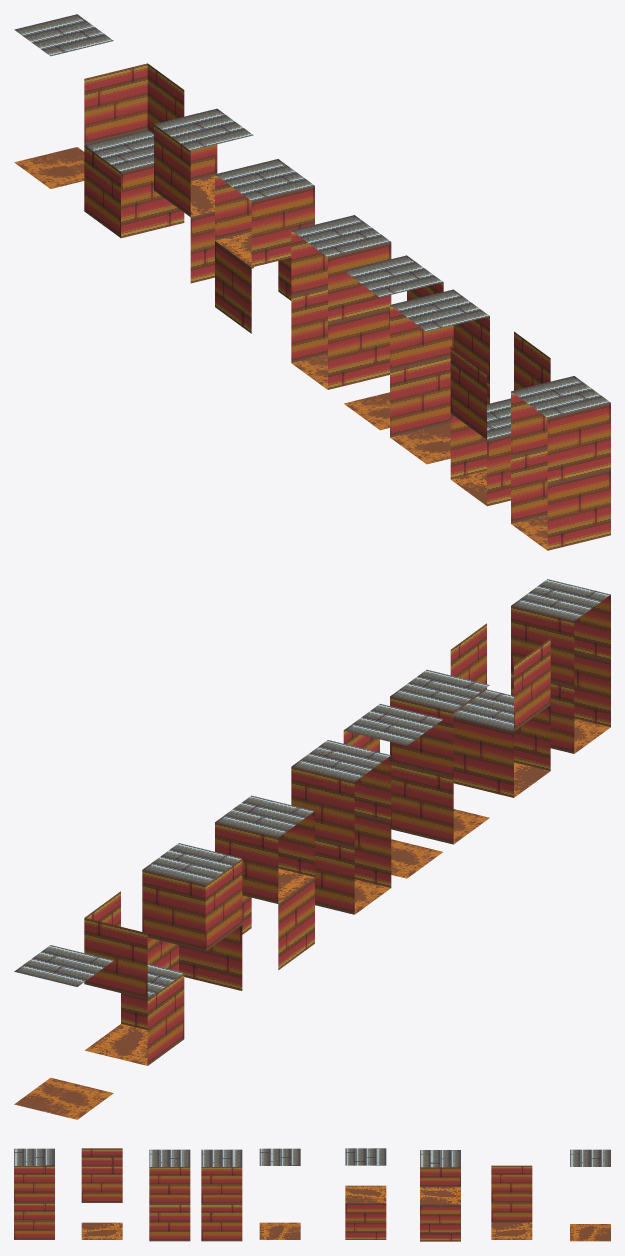
The model's file is Screenaze.glb.
3 renders of one model, top to bottom at view 1: azimuth 30°, elevation 25°; view 2: azimuth 150°, elevation 25°; view 3: azimuth 270°, elevation 25°, orthographic. The views are drawn at different scales.
Parts seen in each view (by area): view 1: StartEndWall.col, MainWall.col, LowerWallTurn.col, Right.col, HIgherWall.col, LowerWall.col, HighLeft.col, 4Way.col, 3Way.col; view 2: MainWall.col, HighLeft.col, LowerWall.col, StartEndWall.col, HIgherWall.col, Right.col, LowerWallTurn.col, 4Way.col, 3Way.col; view 3: Right.col, 3Way.col, HighLeft.col, StartEndWall.col, LowerWallTurn.col, HIgherWall.col, LowerWall.col, MainWall.col, 4Way.col.
Boxes of the visible parts, left/top/right/bottom form: StartEndWall.col: left=511, top=376, right=610, bottom=550; MainWall.col: left=291, top=215, right=391, bottom=389; LowerWallTurn.col: left=84, top=63, right=184, bottom=238; Right.col: left=390, top=289, right=489, bottom=464; HIgherWall.col: left=215, top=159, right=314, bottom=333; LowerWall.col: left=450, top=331, right=550, bottom=506; HighLeft.col: left=154, top=108, right=253, bottom=283; 4Way.col: left=14, top=14, right=113, bottom=188; 3Way.col: left=344, top=255, right=443, bottom=430; MainWall.col: left=291, top=740, right=391, bottom=914; HighLeft.col: left=142, top=843, right=242, bottom=990; LowerWall.col: left=450, top=623, right=550, bottom=797; StartEndWall.col: left=511, top=579, right=610, bottom=753; HIgherWall.col: left=215, top=795, right=314, bottom=969; Right.col: left=390, top=669, right=489, bottom=844; LowerWallTurn.col: left=84, top=891, right=184, bottom=1065; 4Way.col: left=14, top=945, right=113, bottom=1119; 3Way.col: left=343, top=703, right=442, bottom=878; Right.col: left=149, top=1149, right=190, bottom=1241; 3Way.col: left=201, top=1149, right=242, bottom=1241; HighLeft.col: left=420, top=1150, right=460, bottom=1241; StartEndWall.col: left=14, top=1148, right=54, bottom=1239; LowerWallTurn.col: left=491, top=1165, right=532, bottom=1239; HIgherWall.col: left=345, top=1148, right=386, bottom=1239; LowerWall.col: left=81, top=1148, right=122, bottom=1239; MainWall.col: left=259, top=1148, right=300, bottom=1239; 4Way.col: left=570, top=1149, right=610, bottom=1241.
Size of the model in its own units: 1.09 by 2.04 by 14.57.
Materials: 1 (1 with a texture image).
